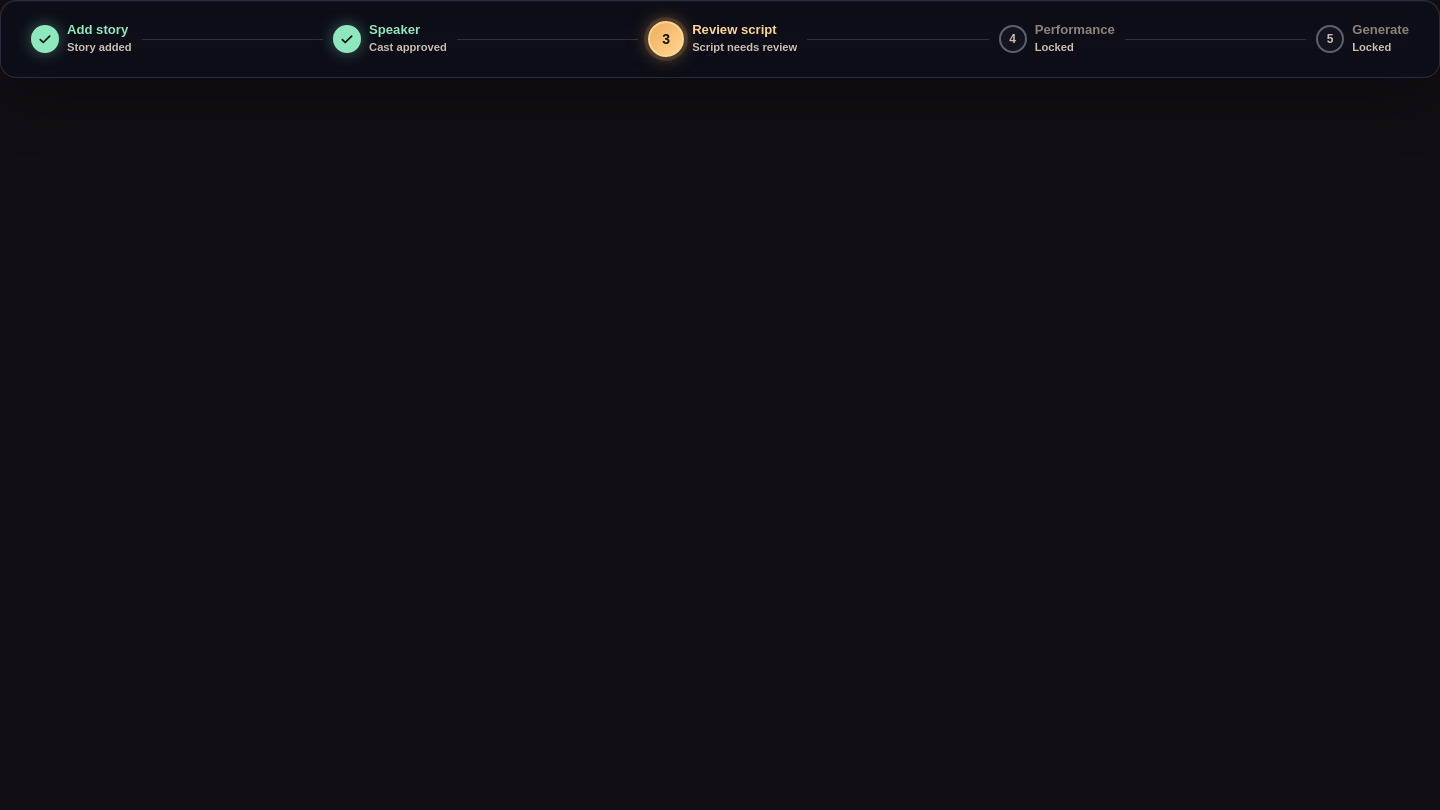
Test case: WorkflowStepperComponent › opens a desktop popover when a step is clicked and closes on second click
This screenshot has width=1440, height=810.
What coordinates should you click on to do the following:
click the button with test id "workflow-stepper-step" that starts with "Review script"
I would click on:
 (723, 39)
Its box is [638,13,807,65].
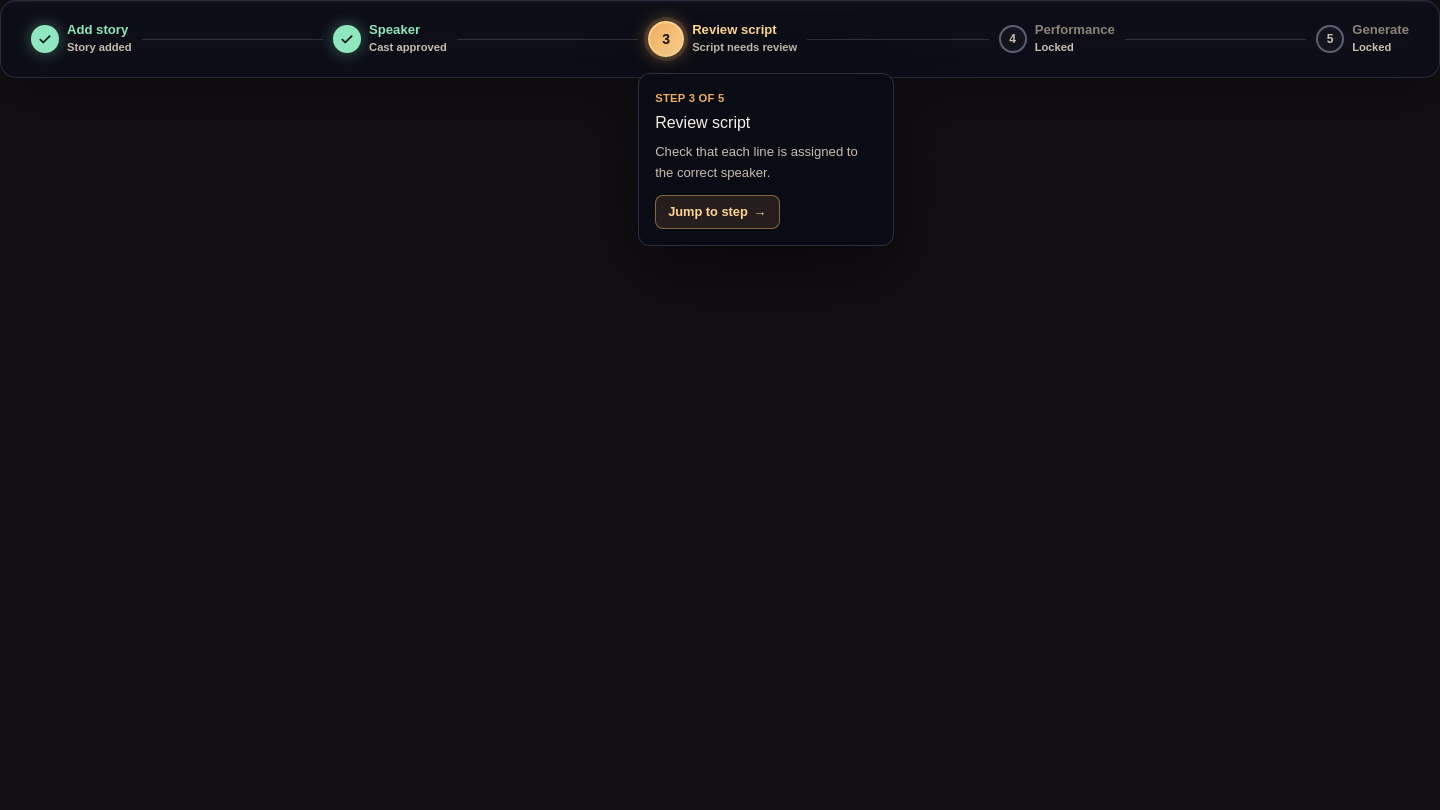
Result: the dialog with test id "workflow-stepper-popover" is shown at [638,73,894,246]
What coordinates should you click on to do the following:
click the button with test id "workflow-stepper-step" that starts with "Review script"
I would click on:
 (723, 39)
Its box is [638,13,807,65].
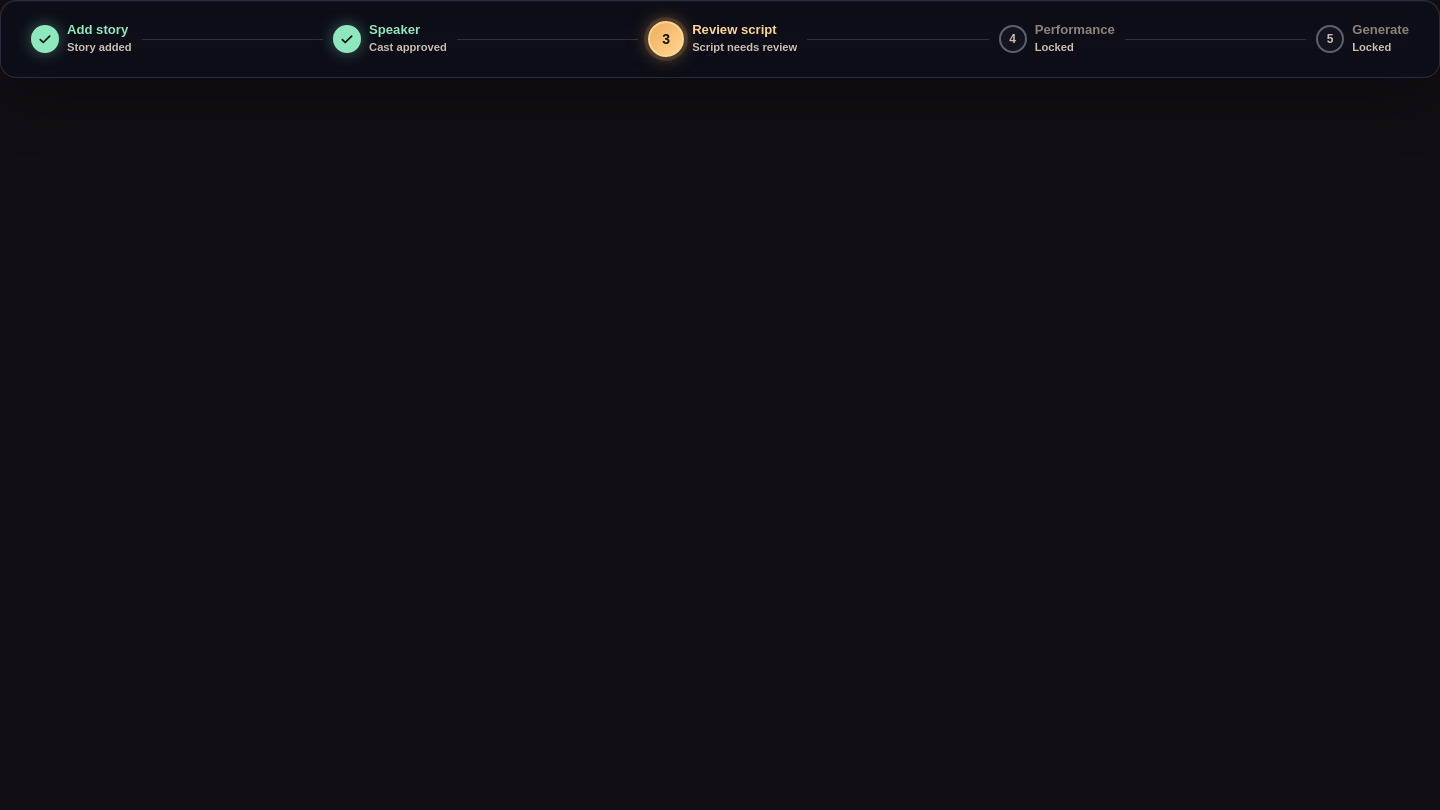
Result: the dialog with test id "workflow-stepper-popover" is gone
